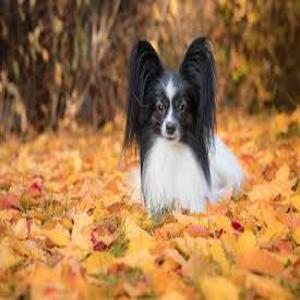yell: (122, 37, 243, 212)
